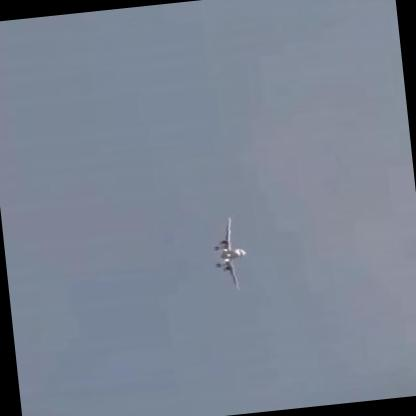plane: (207, 215, 251, 293)
